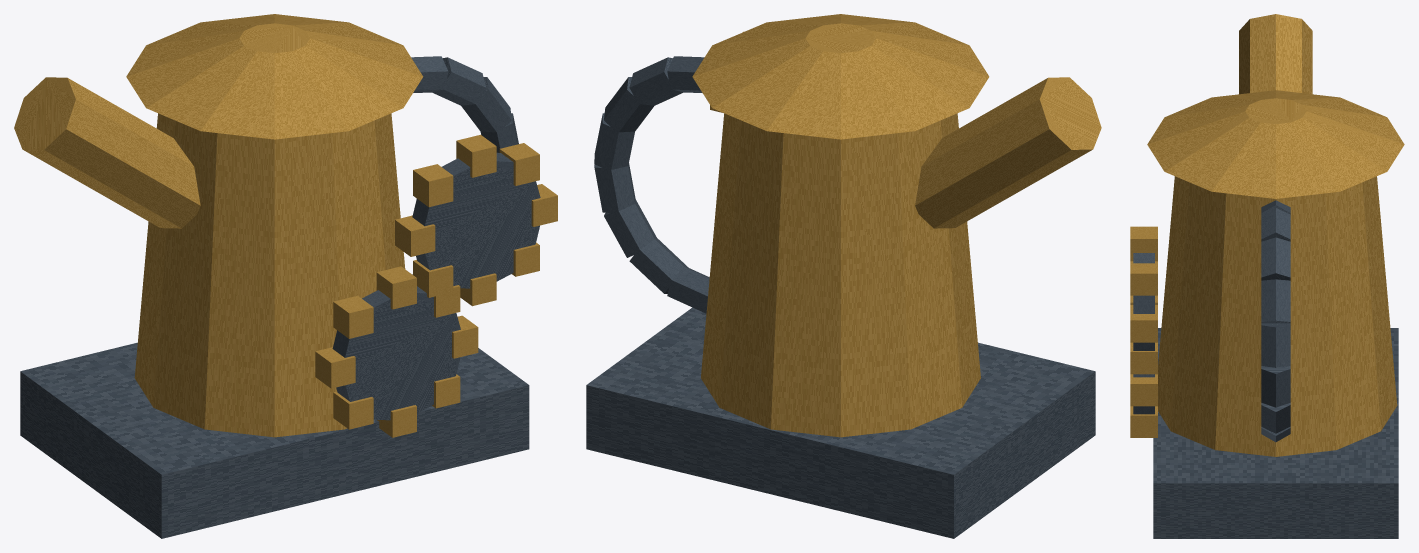
The model's file is repair_machine_repaired.glb.
The picture shows the model from 3 angles, left to right: view 1: azimuth 30°, elevation 25°; view 2: azimuth 150°, elevation 25°; view 3: azimuth 270°, elevation 25°; orthographic projection. The views are drawn at different scales.
Parts seen in each view (by area): view 1: kettle, base, lid, gear (×2), tooth (×16), spout, handle2, handle1, handle3, handle0; view 2: kettle, base, lid, spout, handle14, handle13, handle15, handle2, handle1, handle0, handle12, handle3; view 3: kettle, base, lid, spout, tooth (×6), handle1, handle0, handle2, handle15, handle3, gear, handle14.
Boxes of the visible parts, x1=… form: kettle: x1=134, y1=113, x2=405, y2=437; base: x1=20, y1=342, x2=529, y2=538; lid: x1=126, y1=14, x2=423, y2=139; gear (×2): x1=332, y1=152, x2=540, y2=420; tooth (×16): x1=315, y1=134, x2=557, y2=437; spout: x1=14, y1=77, x2=200, y2=228; handle2: x1=432, y1=57, x2=486, y2=105; handle1: x1=461, y1=77, x2=511, y2=132; handle3: x1=411, y1=56, x2=448, y2=92; handle0: x1=480, y1=113, x2=518, y2=152; kettle: x1=701, y1=113, x2=980, y2=437; base: x1=586, y1=307, x2=1095, y2=538; lid: x1=692, y1=14, x2=989, y2=139; spout: x1=915, y1=77, x2=1101, y2=228; handle14: x1=604, y1=199, x2=656, y2=257; handle13: x1=629, y1=238, x2=688, y2=293; handle15: x1=594, y1=163, x2=635, y2=212; handle2: x1=629, y1=57, x2=683, y2=105; handle1: x1=604, y1=77, x2=654, y2=132; handle0: x1=594, y1=113, x2=634, y2=171; handle12: x1=667, y1=266, x2=709, y2=313; handle3: x1=667, y1=56, x2=704, y2=92; kettle: x1=1158, y1=176, x2=1397, y2=456; base: x1=1153, y1=328, x2=1398, y2=538; lid: x1=1147, y1=90, x2=1404, y2=198; spout: x1=1239, y1=14, x2=1312, y2=94; tooth (×6): x1=1130, y1=228, x2=1157, y2=437; handle1: x1=1261, y1=279, x2=1290, y2=323; handle0: x1=1261, y1=323, x2=1290, y2=367; handle2: x1=1261, y1=237, x2=1290, y2=280; handle15: x1=1261, y1=366, x2=1290, y2=407; handle3: x1=1261, y1=208, x2=1290, y2=241; gear: x1=1133, y1=253, x2=1154, y2=350; handle14: x1=1261, y1=403, x2=1290, y2=433.
Bounding box in the file's own units: 1.63 × 1.29 × 0.895.
1 material, 1 textured.
